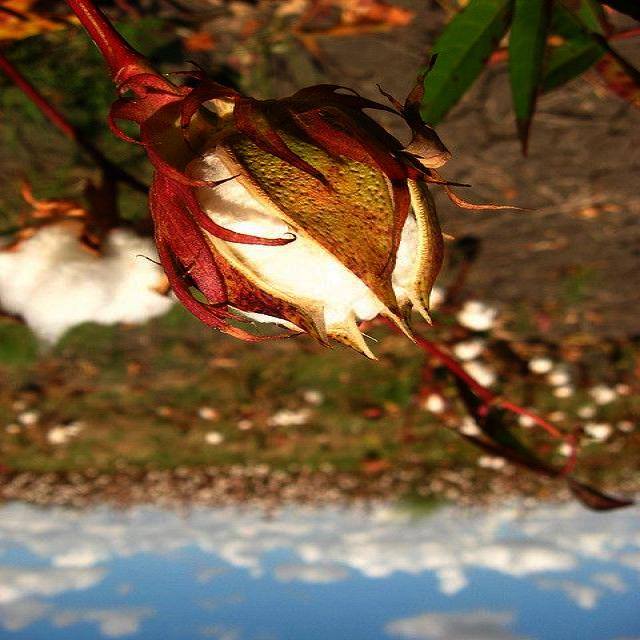Matured Cotton Boll: (0, 212, 185, 350)
Split Cotton Boll: (140, 96, 446, 344)
